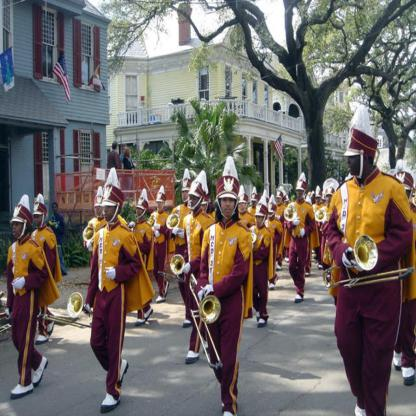face: (347, 148, 365, 176), (393, 185, 412, 209), (221, 195, 236, 218), (105, 201, 118, 222), (13, 218, 25, 238), (190, 193, 201, 211), (183, 189, 193, 204), (35, 213, 43, 227), (96, 203, 104, 217), (256, 213, 264, 227), (137, 205, 145, 217), (297, 188, 305, 199), (157, 200, 164, 211), (239, 201, 246, 212), (268, 210, 275, 220), (52, 204, 58, 213), (202, 203, 208, 212), (327, 194, 333, 203), (277, 196, 282, 204), (316, 196, 321, 204), (252, 201, 257, 208), (124, 148, 128, 153)
